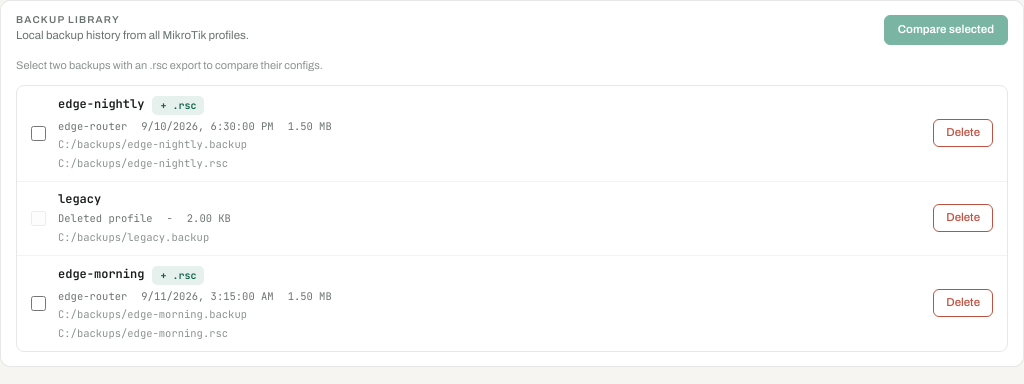
MikrotikBackupLibrary › config diff › keeps Compare disabled until two .rsc backups are selected
Check: the list item with test id "mikrotik-backup-row-12" is shown, box [17,86,1007,182]
Check: the button with test id "mikrotik-backup-compare" is disabled, box [884,15,1008,44]
Click the checkbox named "Select edge-nightly for comparison": (38,133) [31,126,46,140]
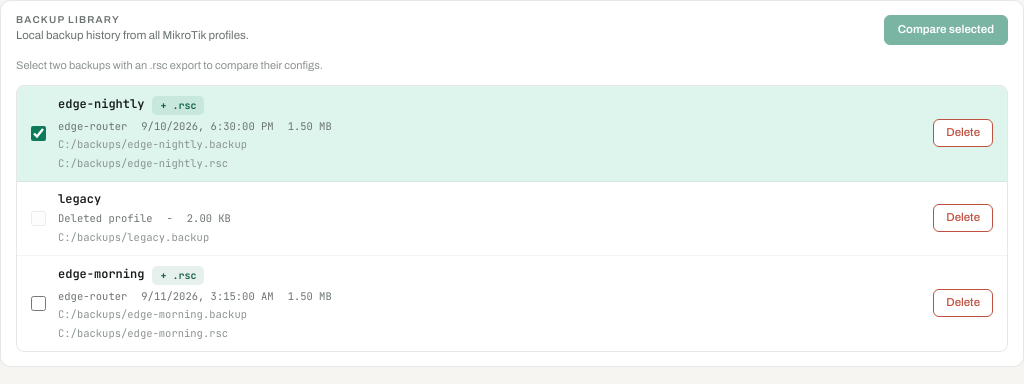
Check: the button with test id "mikrotik-backup-compare" is disabled, box [884,15,1008,44]
Click the checkbox named "Select edge-morning for comparison": (38,303) [31,296,46,311]
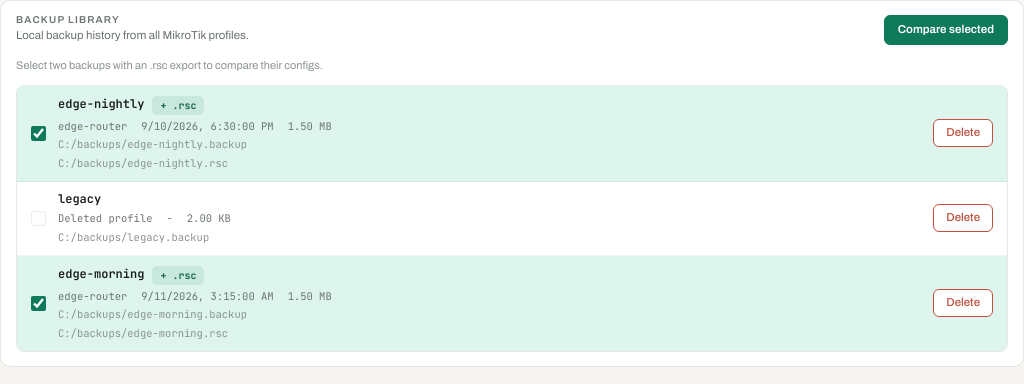
Check: the button with test id "mikrotik-backup-compare" is enabled, box [884,15,1008,44]
